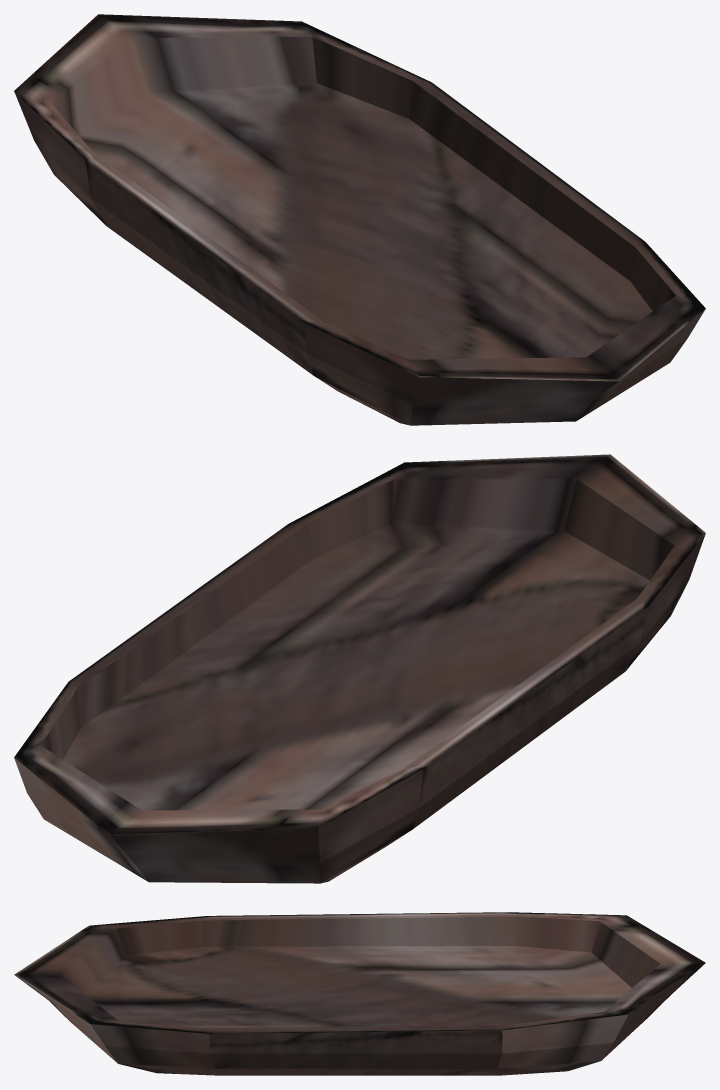
The model's file is planks.glb.
The picture shows the model from 3 angles, top to bottom: view 1: azimuth 30°, elevation 25°; view 2: azimuth 150°, elevation 25°; view 3: azimuth 270°, elevation 25°; orthographic projection. The views are drawn at different scales.
Parts seen in each view (by area): view 1: Planks; view 2: Planks; view 3: Planks.
Part boxes in pixels (left/top/right/bottom): Planks: left=14, top=14, right=705, bottom=425; Planks: left=14, top=454, right=705, bottom=883; Planks: left=14, top=912, right=705, bottom=1075.
Size of the model in its own units: 3.02 by 0.8251 by 7.59.
1 material, 1 textured.
